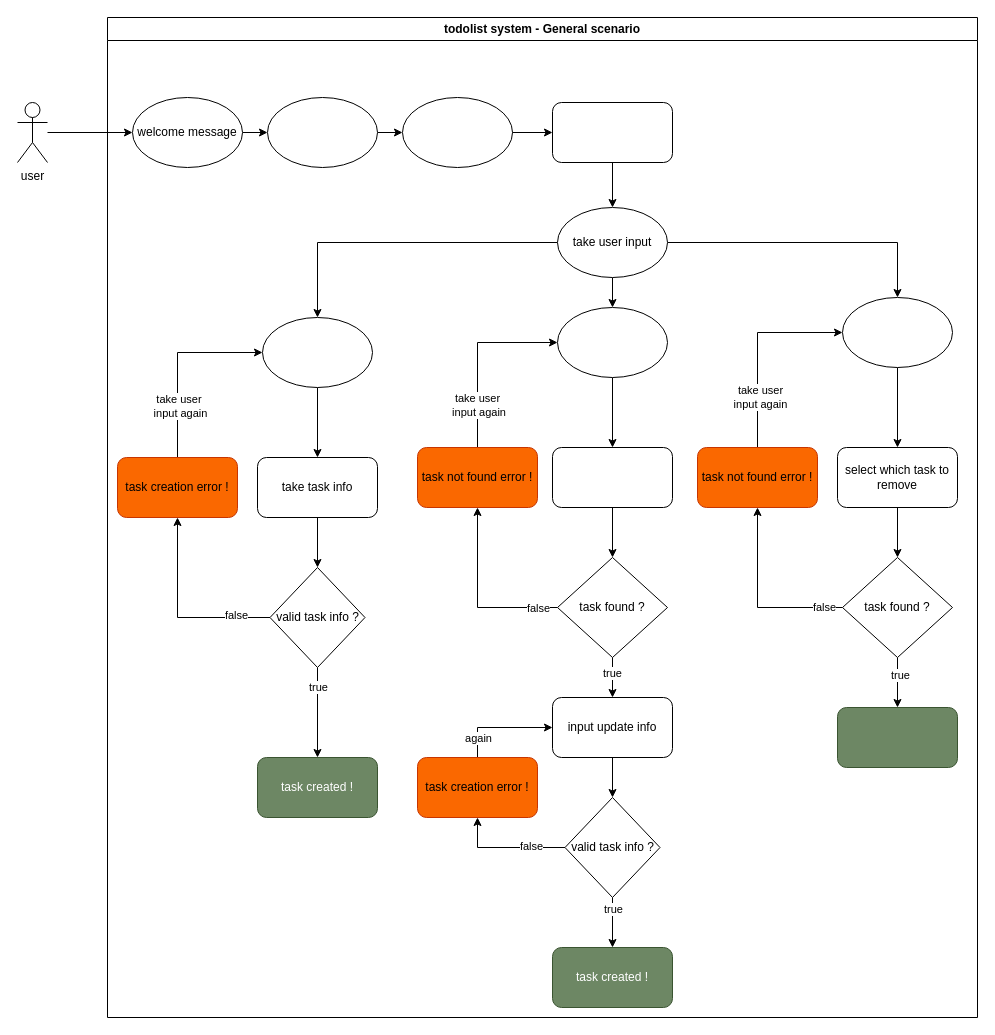
Image size: 995x1035. Some labels were removed from this diagram. Here are the shapes that lost their labels. From the top down, the centre of each, then its label:
the point at 322,132: show TODO tasks
the point at 457,132: show options
the point at 612,132: select option
the point at 317,352: create task
the point at 612,342: update task
the point at 897,332: remove task
the point at 612,477: select which task to update
the point at 897,737: task removed !
